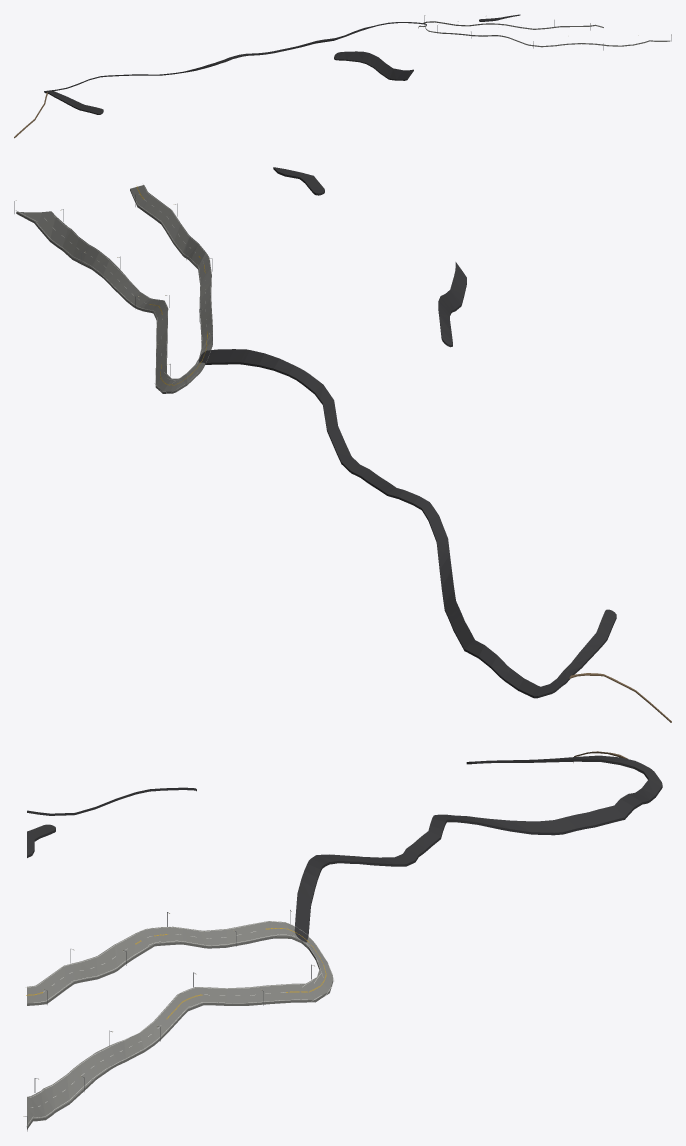
File: 16-54738-29717.0beb0094.glb
The picture shows the model from 3 angles, top to bottom: view 1: azimuth 30°, elevation 25°; view 2: azimuth 150°, elevation 25°; view 3: azimuth 270°, elevation 25°; orthographic projection. The views are drawn at different scales.
Size of the model in its own units: 550 by 136 by 293.
